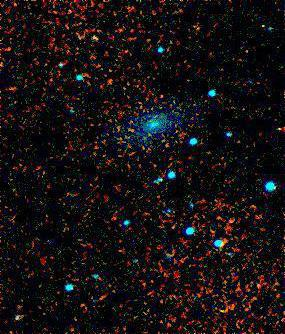star: (215, 209, 245, 239)
